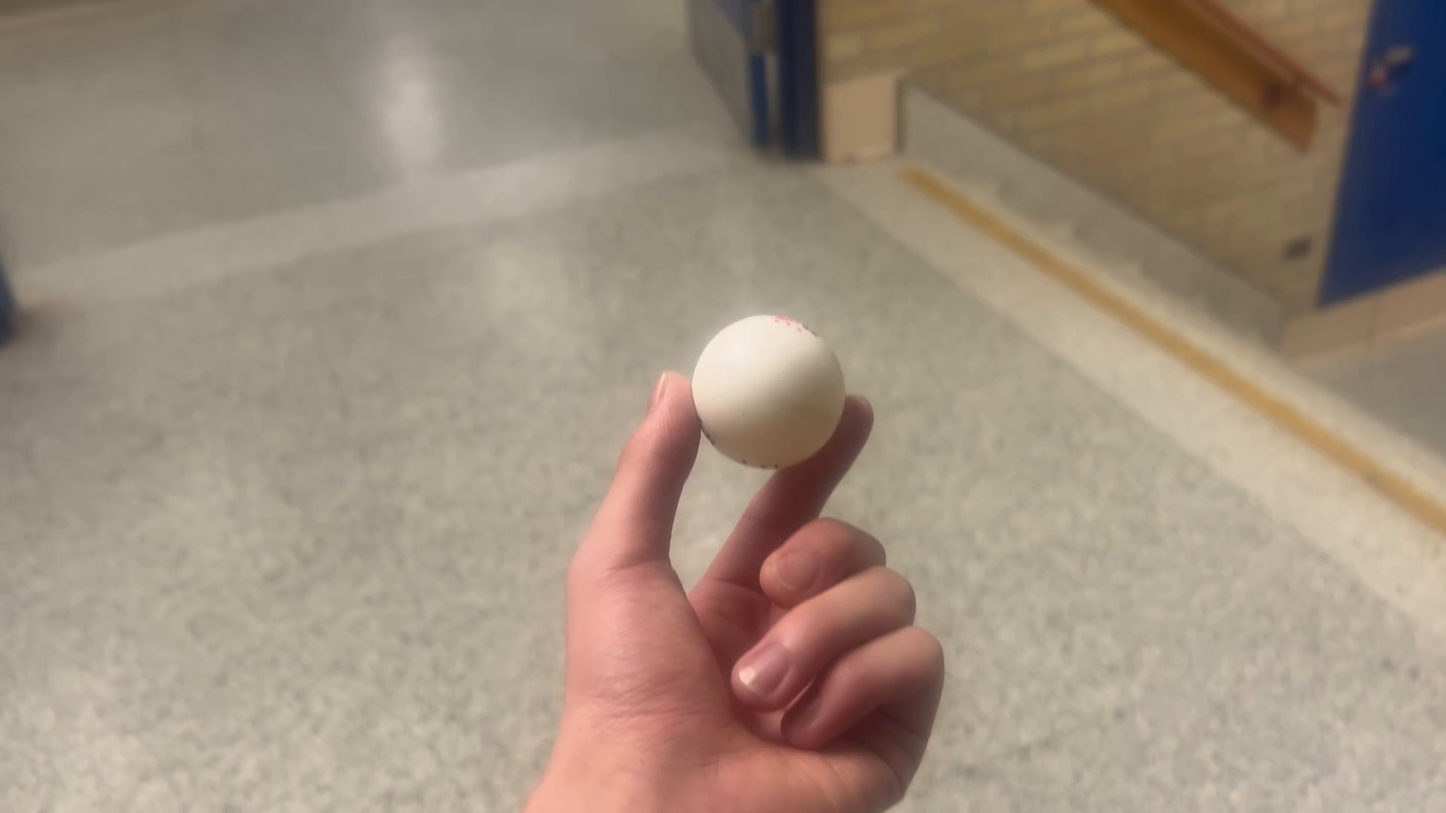Ball: (689, 311, 836, 468)
